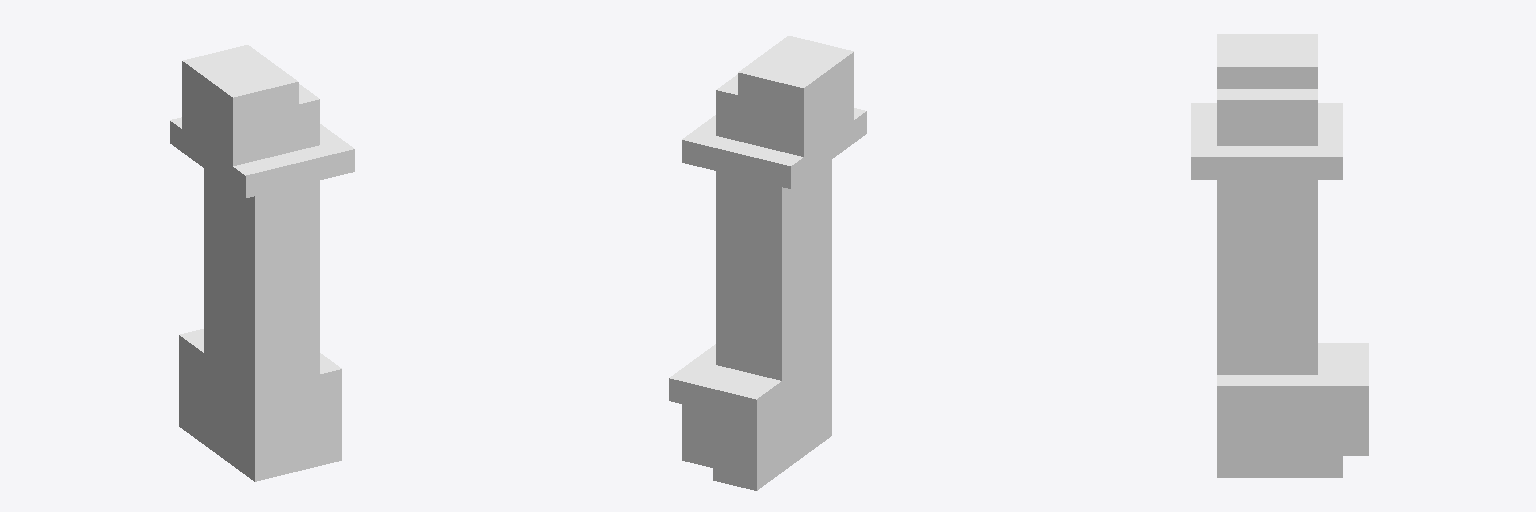
The model's file is char-3.obj.
The picture shows the model from 3 angles: view 1: azimuth 30°, elevation 25°; view 2: azimuth 150°, elevation 25°; view 3: azimuth 270°, elevation 25°; orthographic projection.
Visible parts, largest first — view 1: object 1; view 2: object 1; view 3: object 1.
Boxes of the visible parts, x1=… form: object 1: x1=170, y1=45, x2=354, y2=481; object 1: x1=669, y1=36, x2=866, y2=490; object 1: x1=1191, y1=34, x2=1368, y2=477.
Size of the model in its own units: 0.5 by 1.7 by 0.7.